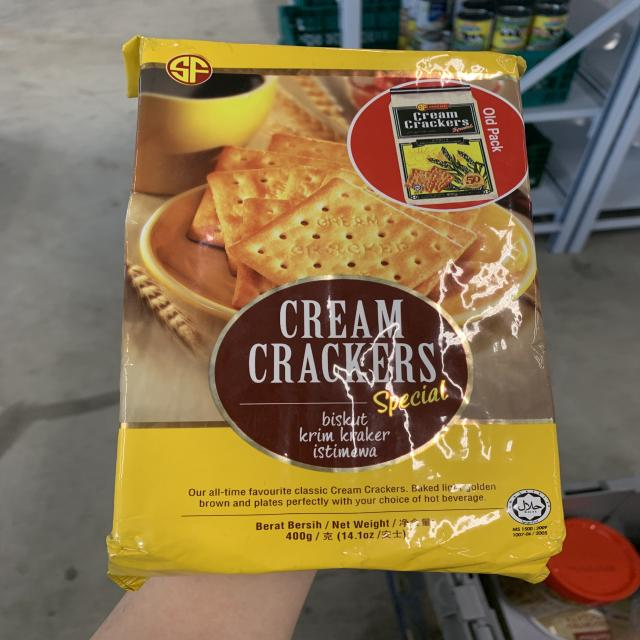object_name: (134, 37, 553, 570)
